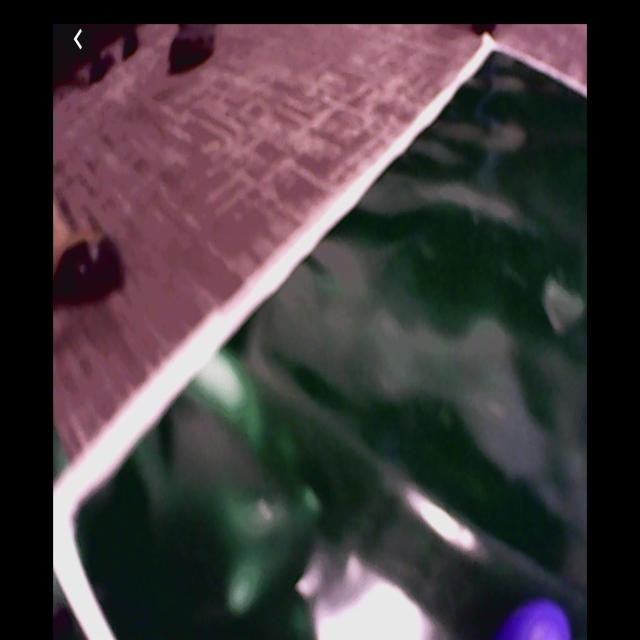ball: (500, 600, 574, 640)
